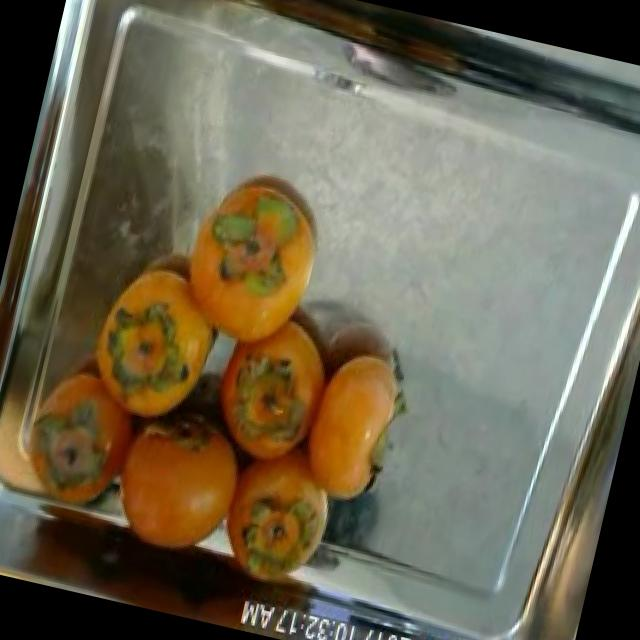Fruit: (80, 362, 272, 592), (270, 326, 426, 528)
